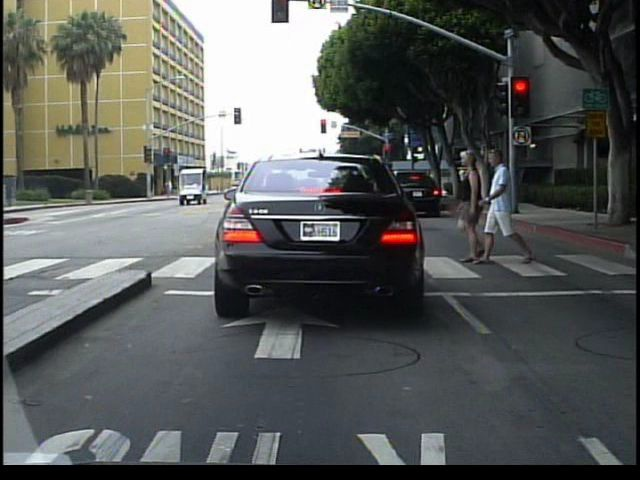person: (447, 146, 493, 264), (484, 138, 527, 261)
